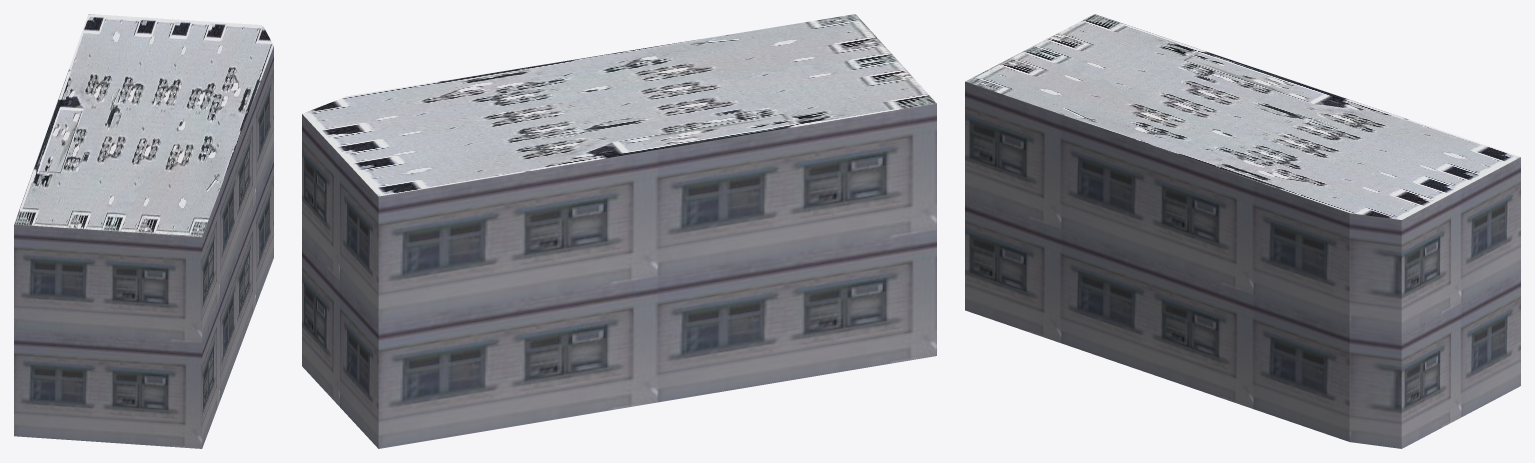
The model's file is ResTex__2189.fbx.
The picture shows the model from 3 angles, left to right: view 1: azimuth 30°, elevation 25°; view 2: azimuth 150°, elevation 25°; view 3: azimuth 270°, elevation 25°; orthographic projection. The views are drawn at different scales.
Parts seen in each view (by area): view 1: CityEngineMaterial_1_m, CityEngineMaterial_m; view 2: CityEngineMaterial_1_m, CityEngineMaterial_m; view 3: CityEngineMaterial_1_m, CityEngineMaterial_m.
Boxes of the visible parts, box(x1,y1,x2,y2) form: CityEngineMaterial_1_m: box(14, 46, 273, 448); CityEngineMaterial_m: box(14, 14, 273, 237); CityEngineMaterial_1_m: box(302, 103, 936, 448); CityEngineMaterial_m: box(302, 14, 936, 196); CityEngineMaterial_1_m: box(965, 81, 1520, 448); CityEngineMaterial_m: box(965, 14, 1520, 219).
Bounding box in the file's own units: 11.59 × 6 × 13.2.
Materials: 2 (2 with a texture image).
